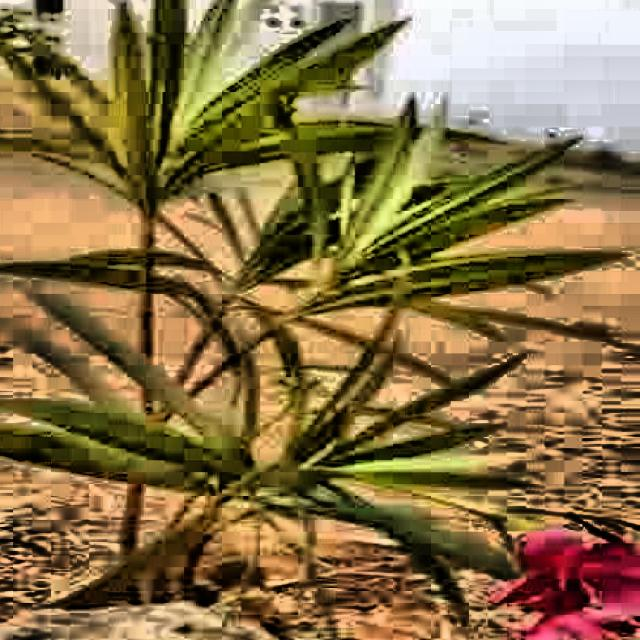Oleander: (1, 1, 640, 640)
